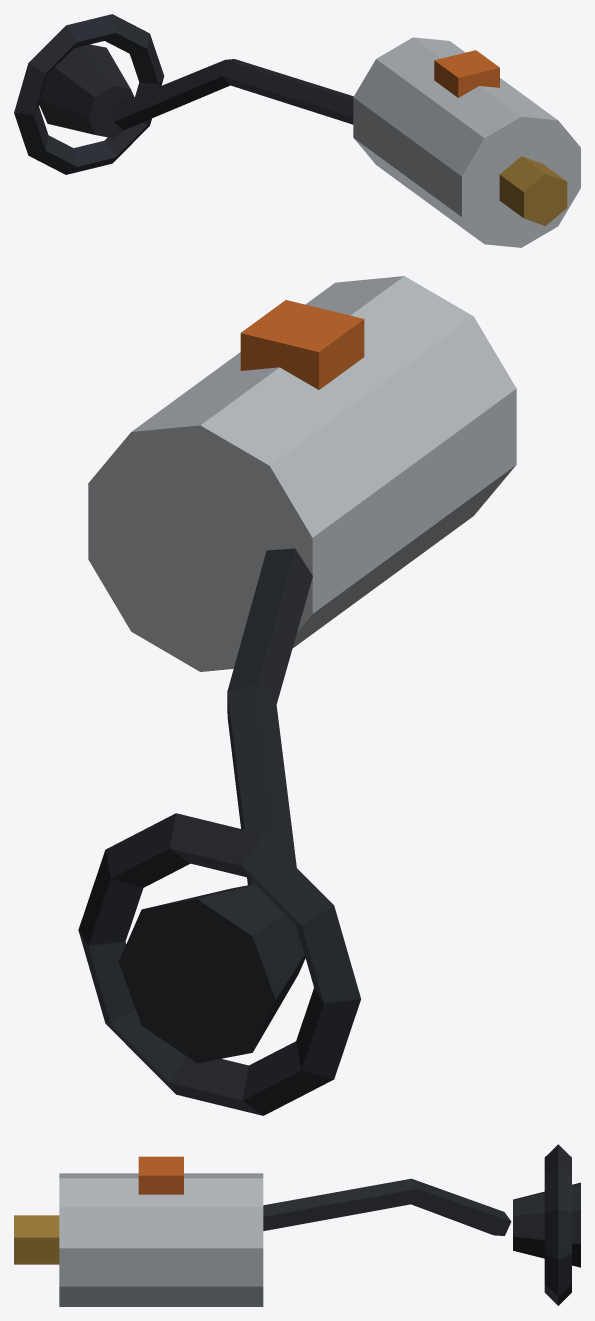
Rendered from underwater-respirator.glb.
3 renders of one model, top to bottom at view 1: azimuth 30°, elevation 25°; view 2: azimuth 150°, elevation 25°; view 3: azimuth 270°, elevation 25°, orthographic. The views are drawn at different scales.
Parts seen in each view (by area): view 1: m; view 2: m; view 3: m.
Boxes of the visible parts, x1,y1,x2,y2 form: m: (14,14,580,247); m: (78,276,516,1115); m: (14,1144,580,1306).
Size of the model in its own units: 0.1156 by 0.0802 by 0.2.
